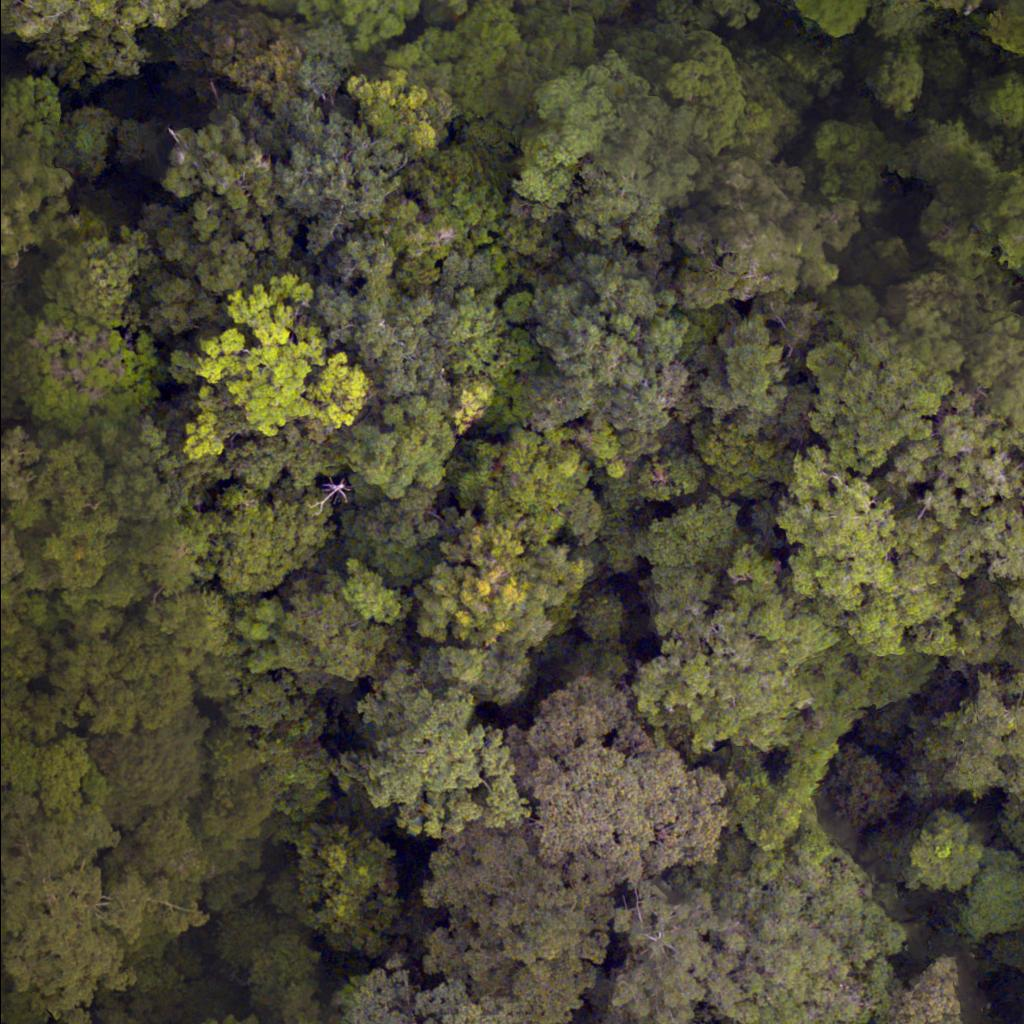crown: (867, 271, 1023, 661), (0, 811, 210, 1023), (411, 812, 621, 1023), (515, 677, 724, 886), (639, 543, 843, 755), (663, 143, 862, 348), (175, 271, 372, 467), (0, 437, 174, 641), (123, 113, 290, 298), (322, 226, 498, 399), (522, 260, 692, 438), (354, 658, 522, 834), (753, 846, 909, 1023), (806, 273, 955, 458), (168, 6, 363, 124), (418, 523, 590, 656), (765, 449, 906, 611), (604, 880, 762, 1023), (269, 813, 417, 960), (268, 103, 415, 240), (610, 18, 750, 152), (377, 150, 510, 289), (899, 126, 1023, 274), (22, 306, 160, 432), (0, 0, 179, 90), (457, 430, 602, 541), (52, 629, 196, 737), (86, 707, 211, 826), (210, 486, 336, 594), (634, 492, 736, 623), (259, 590, 389, 691), (0, 141, 97, 265), (693, 319, 794, 430), (349, 398, 455, 501), (444, 282, 540, 395), (806, 106, 908, 210), (942, 682, 1023, 809), (334, 965, 509, 1023), (0, 623, 79, 750), (340, 496, 451, 582), (41, 232, 137, 329), (125, 503, 223, 596), (689, 413, 796, 493), (597, 440, 695, 517), (349, 72, 440, 154), (952, 856, 1023, 959), (887, 943, 977, 1023), (815, 751, 903, 831), (0, 425, 45, 580), (908, 812, 981, 893), (287, 0, 420, 43), (0, 737, 48, 844), (338, 575, 410, 630), (869, 43, 924, 106), (448, 382, 519, 430), (922, 36, 974, 93), (568, 635, 630, 681), (978, 64, 1023, 122), (792, 0, 863, 33), (578, 595, 625, 638), (876, 0, 931, 36), (892, 0, 991, 19), (705, 0, 760, 33), (599, 527, 640, 567), (1000, 629, 1023, 676)
